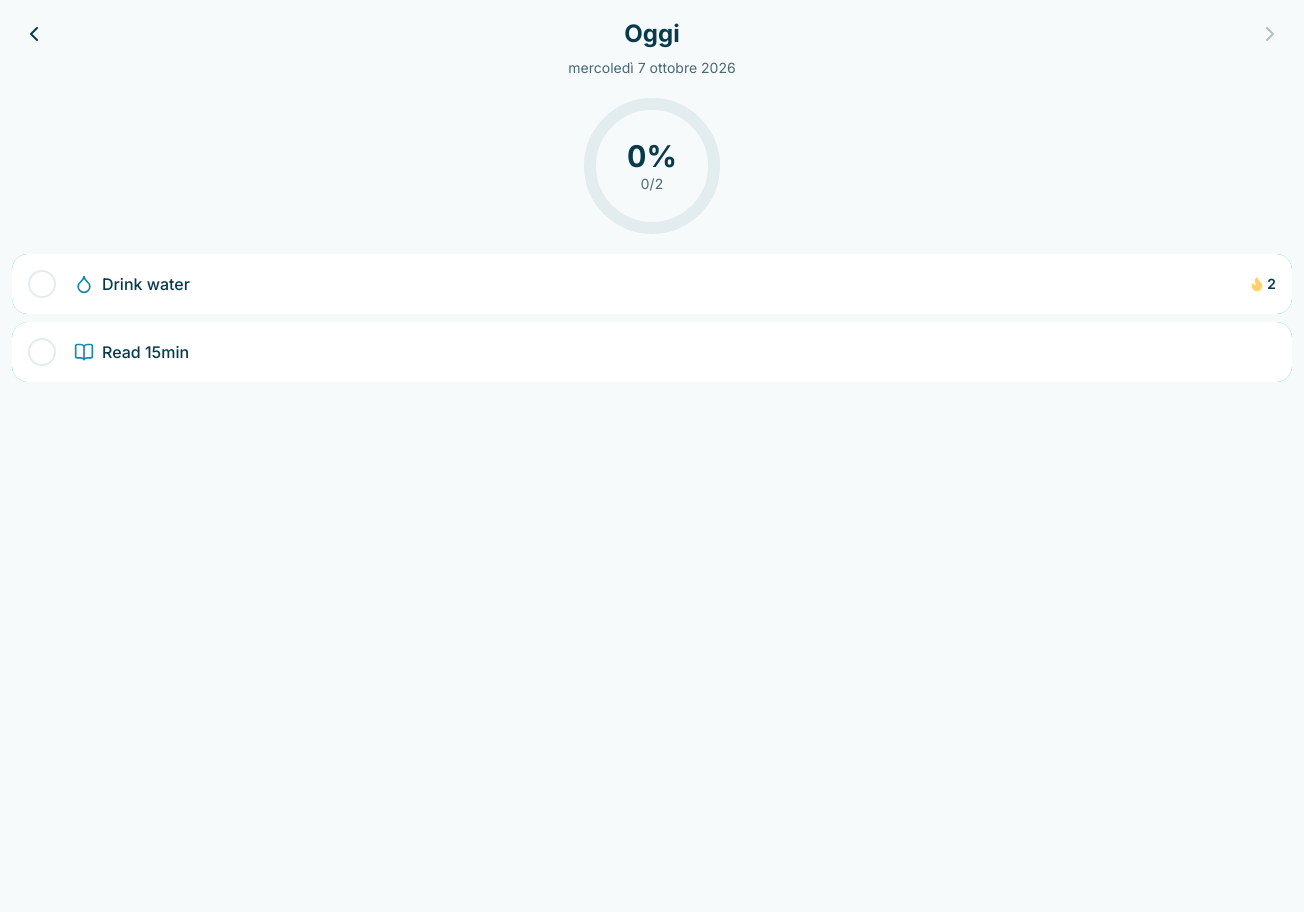
Test: HomePage › errore di rete → rollback e Riprova
The width and height of the screenshot is (1304, 912).
Click the button named "Segna «Drink water» come fatta" at (42, 284), box [18,260,66,308]
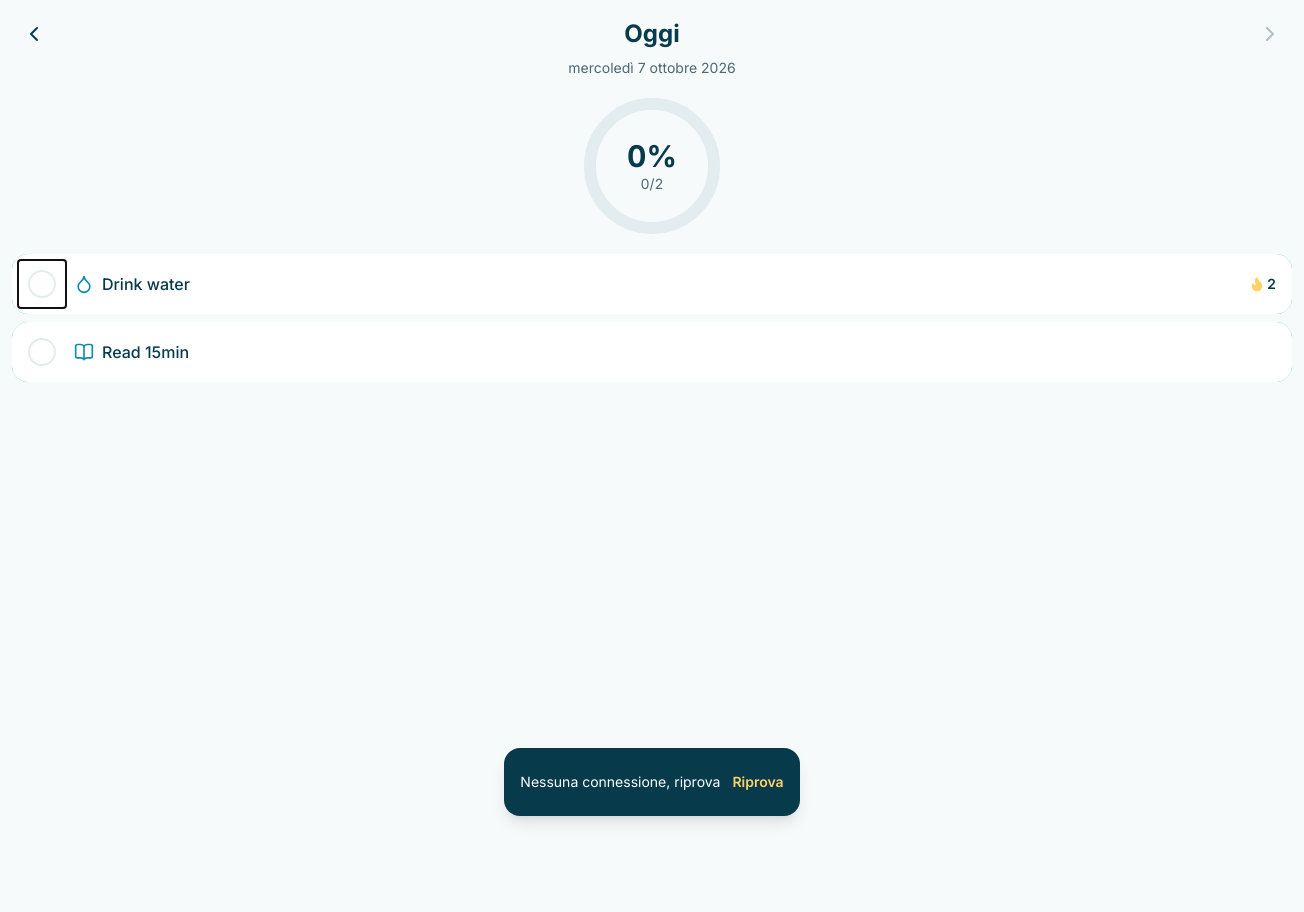
Expected: the text "Nessuna connessione, riprova" is shown, [520,772,720,792]
Expected: the button "Riprova" is shown, [732,760,784,804]
